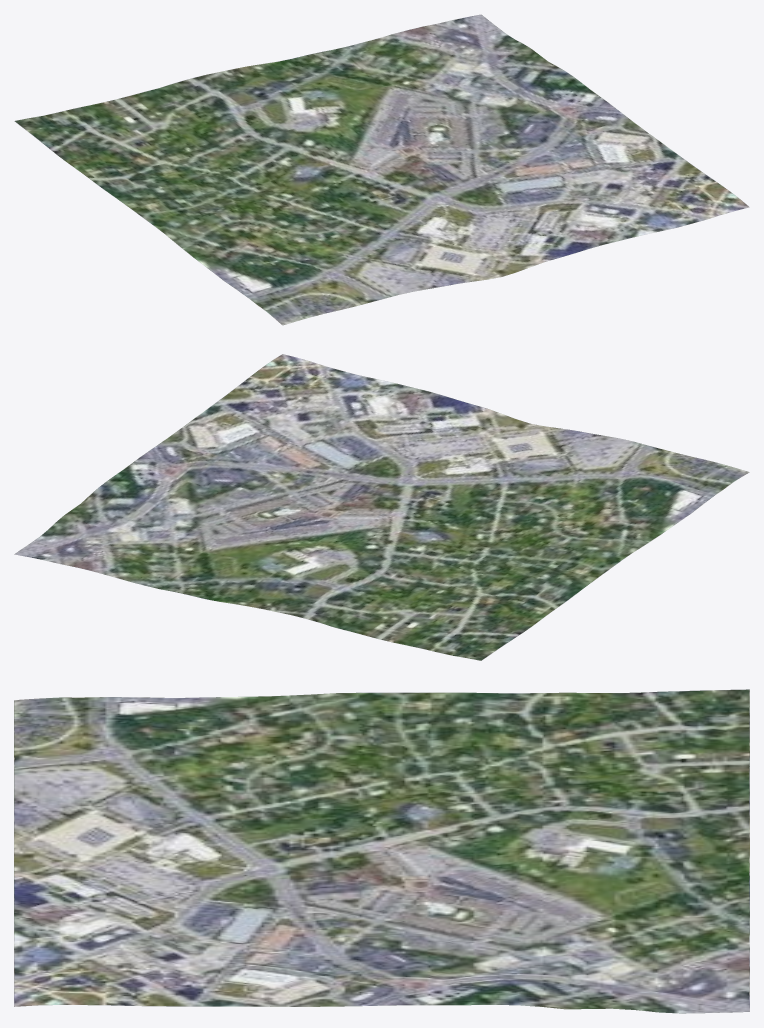
3 views of the same model, one above another, from view 1: azimuth 30°, elevation 25°; view 2: azimuth 150°, elevation 25°; view 3: azimuth 270°, elevation 25° (orthographic). The views are drawn at different scales.
Size of the model in its own units: 975 by 25.68 by 971.
Materials: 1 (1 with a texture image).
